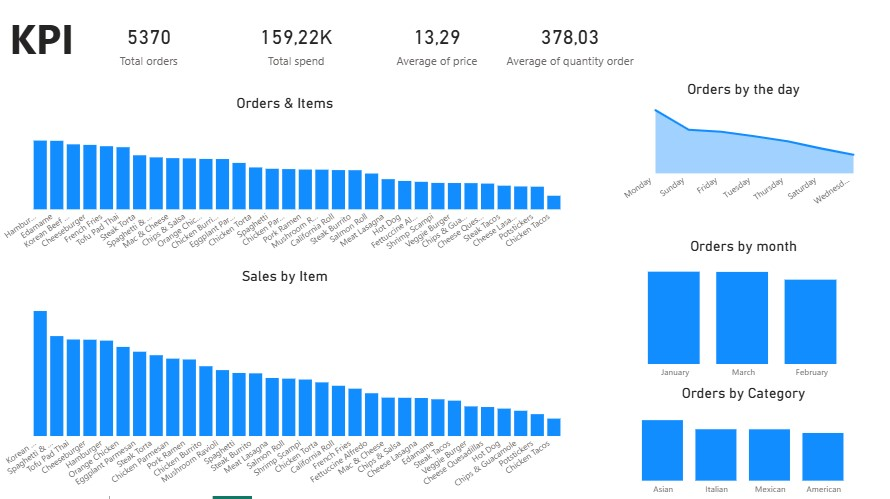

This screenshot's page, from the dashboard's own definition file:
{"tool":"powerbi","page":{"name":"Страница 1","canvas":[1280,720],"ordinal":0},"visuals":[{"type":"columnChart","title":"Orders & Items","fields":{"Category":["data-question_1.item_name"],"Y":["Sum(data-question_1.quantity_order)"]},"box":[0,138.3,816.7,233.3],"z":0},{"type":"lineClusteredColumnComboChart","title":"Orders by month","fields":{"Category":["data- question 3 1.month"],"Y":["Sum(data- question 3 1.total_orders)"]},"box":[883.3,343.3,361.7,210],"z":1},{"type":"columnChart","title":"Orders by Category","fields":{"Category":["data-question_1.category"],"Y":["Sum(data-question_1.quantity_order)"]},"box":[883.3,553.3,361.7,166.7],"z":2},{"type":"areaChart","title":"Orders by the day","fields":{"Category":["data - question3.day_of_week"],"Y":["Sum(data - question3.total_orders)"]},"box":[883.3,118.3,361.7,190],"z":3},{"type":"columnChart","title":"Sales  by Item","fields":{"Category":["data-question_2.item_name"],"Y":["Sum(data-question_2.total_spend)"]},"box":[0,385,816.7,335],"z":4},{"type":"card","fields":{"Values":["Sum(data- question 3 1.total_orders)"]},"box":[121.7,11.7,185,106.7],"z":6},{"type":"textbox","box":[0,11.7,121.7,126.7],"z":8},{"type":"card","fields":{"Values":["Sum(data-question_2.total_spend)"]},"box":[306.7,11.7,235,106.7],"z":9},{"type":"card","fields":{"Values":["Avg(data-question_2.price)"]},"box":[541.7,11.7,168.3,106.7],"z":10},{"type":"card","fields":{"Values":["Avg(data-question_2.quantity_order)"]},"box":[710,11.7,211.7,106.7],"z":11}]}

Visuals, with their boxes in screenshot pixels (x1, y1, x2, y2), scaled from the page's 1280x720 canvas onto the 890x499 screenshot:
"Orders & Items" columnChart: BBox(0, 96, 568, 258)
"Orders by month" lineClusteredColumnComboChart: BBox(614, 238, 866, 383)
"Orders by Category" columnChart: BBox(614, 383, 866, 498)
"Orders by the day" areaChart: BBox(614, 82, 866, 214)
"Sales  by Item" columnChart: BBox(0, 267, 568, 498)
card - Sum(data- question 3 1.total_orders): BBox(85, 8, 213, 82)
textbox: BBox(0, 8, 85, 96)
card - Sum(data-question_2.total_spend): BBox(213, 8, 377, 82)
card - Avg(data-question_2.price): BBox(377, 8, 494, 82)
card - Avg(data-question_2.quantity_order): BBox(494, 8, 641, 82)
